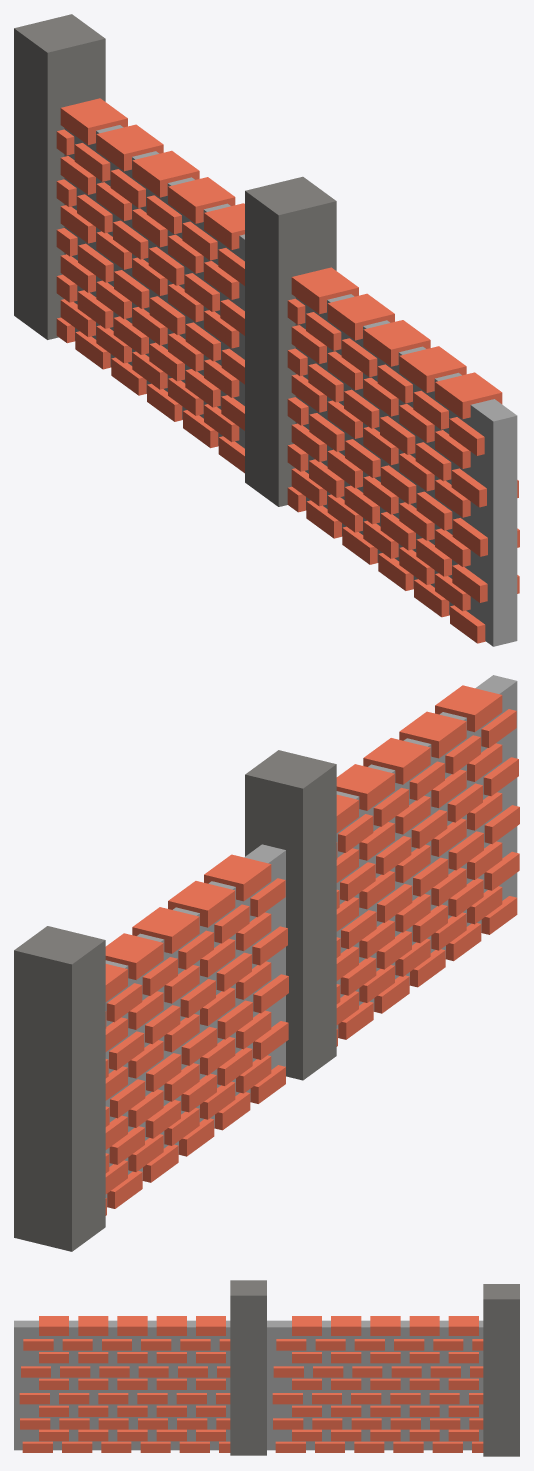
File: Basic_Wall.fbx
3 views of the same model, one above another, from view 1: azimuth 30°, elevation 25°; view 2: azimuth 150°, elevation 25°; view 3: azimuth 270°, elevation 25° (orthographic). The views are drawn at different scales.
Visible parts, largest first — view 1: Cube.021, Cube.003, Cube.023, Cube.002, Cube.012, Cube, Cube.017, Cube.014, Cube.013, Cube.019, Cube.010, Cube.007 (+12 smaller); view 2: Cube.003, Cube.021, Cube.002, Cube.012, Cube.023, Cube, Cube.007, Cube.017, Cube.014, Cube.010, Cube.011, Cube.013 (+12 smaller); view 3: Cube.023, Cube, Cube.021, Cube.003, Cube.012, Cube.002, Cube.005, Cube.017, Cube.010, Cube.019, Cube.007, Cube.011 (+12 smaller).
Boxes of the visible parts, box(x1,y1,x2,y2) form: Cube.021: box(245, 176, 336, 506); Cube.003: box(14, 14, 105, 339); Cube.023: box(295, 294, 517, 646); Cube.002: box(291, 267, 502, 419); Cube.012: box(60, 98, 244, 249); Cube: box(64, 125, 244, 448); Cube.017: box(287, 397, 519, 556); Cube.014: box(287, 348, 518, 507); Cube.013: box(287, 298, 484, 455); Cube.019: box(287, 444, 519, 602); Cube.010: box(56, 179, 244, 335); Cube.007: box(56, 228, 244, 384); Cube.003: box(14, 926, 105, 1251); Cube.021: box(245, 750, 336, 1080); Cube.002: box(336, 685, 502, 832); Cube.012: box(105, 854, 271, 1001); Cube.023: box(336, 675, 517, 1036); Cube: box(105, 844, 285, 1206); Cube.007: box(105, 974, 288, 1126); Cube.017: box(336, 805, 519, 957); Cube.014: box(336, 757, 518, 908); Cube.010: box(105, 926, 287, 1078); Cube.011: box(105, 878, 285, 1028); Cube.013: box(336, 709, 516, 859); Cube.023: box(14, 1320, 230, 1450); Cube: box(267, 1320, 483, 1450); Cube.021: box(230, 1280, 266, 1455); Cube.003: box(483, 1284, 519, 1456); Cube.012: box(292, 1316, 478, 1335); Cube.002: box(39, 1316, 225, 1335); Cube.005: box(273, 1418, 483, 1429); Cube.017: box(19, 1393, 230, 1404); Cube.010: box(273, 1366, 483, 1377); Cube.019: box(20, 1418, 230, 1429); Cube.007: box(272, 1393, 483, 1404); Cube.011: box(276, 1339, 483, 1350).
Size of the model in its own units: 121 by 584 by 1666.
